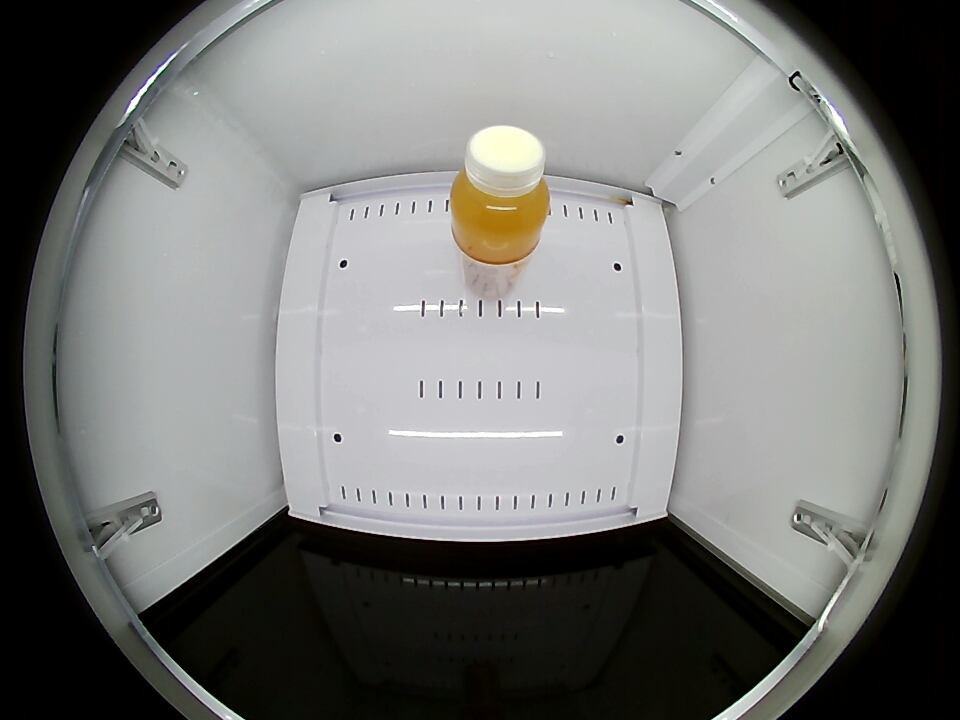weic: (448, 126, 550, 263)
